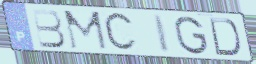B: (30, 8, 68, 49)
C: (101, 10, 139, 54)
D: (208, 16, 243, 57)
G: (173, 15, 210, 56)
I: (152, 14, 173, 55)
M: (62, 9, 110, 51)
